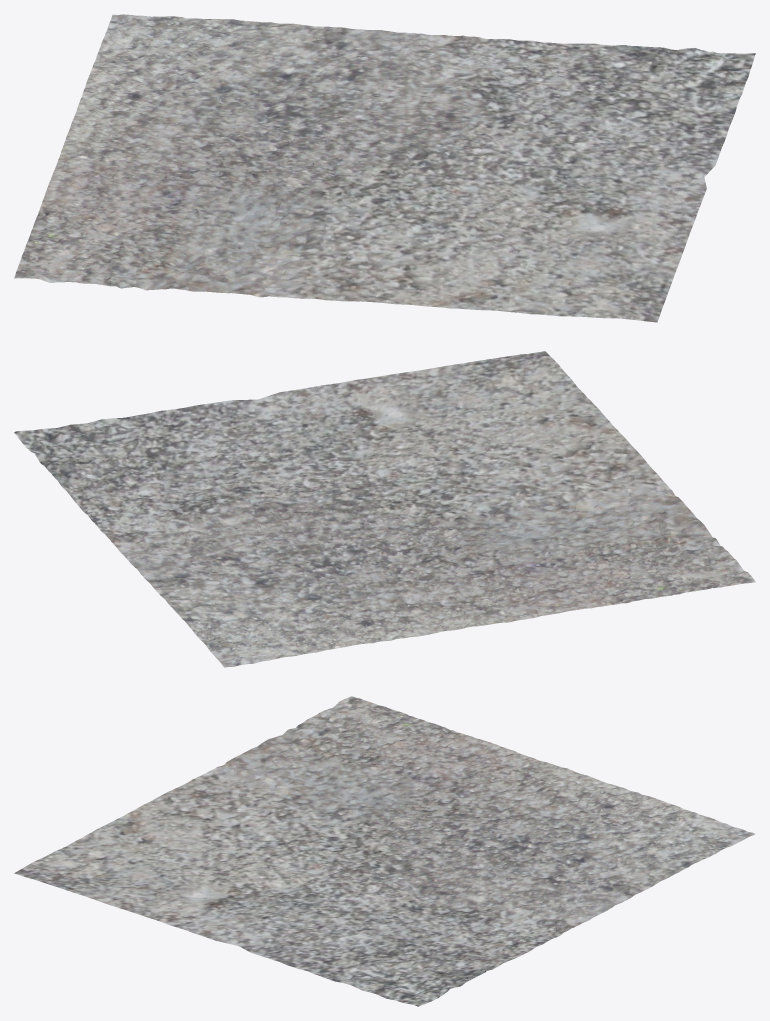
Rendered from tile_3_2.obj.
3 renders of one model, top to bottom at view 1: azimuth 30°, elevation 25°; view 2: azimuth 150°, elevation 25°; view 3: azimuth 270°, elevation 25°, orthographic. The views are drawn at different scales.
Visible parts, largest first — view 1: texture_0; view 2: texture_0; view 3: texture_0.
Part boxes in pixels (bbox=[...]): texture_0: bbox=[14, 14, 755, 322]; texture_0: bbox=[14, 351, 755, 667]; texture_0: bbox=[14, 696, 755, 1006].
Size of the model in its own units: 0.5079 by 0.00647 by 0.5063.
1 material, 1 textured.
